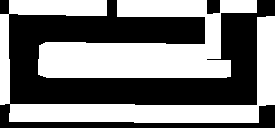parkingspot: (9, 104, 258, 122), (38, 59, 230, 77), (39, 42, 206, 60), (257, 16, 274, 105), (9, 0, 106, 15), (117, 0, 206, 16), (0, 14, 9, 104), (205, 13, 220, 58), (220, 0, 256, 12)
